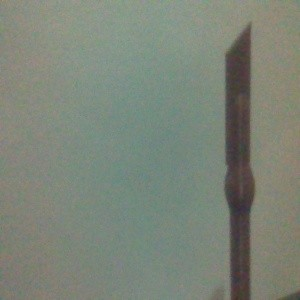cutter: (224, 22, 256, 300)
